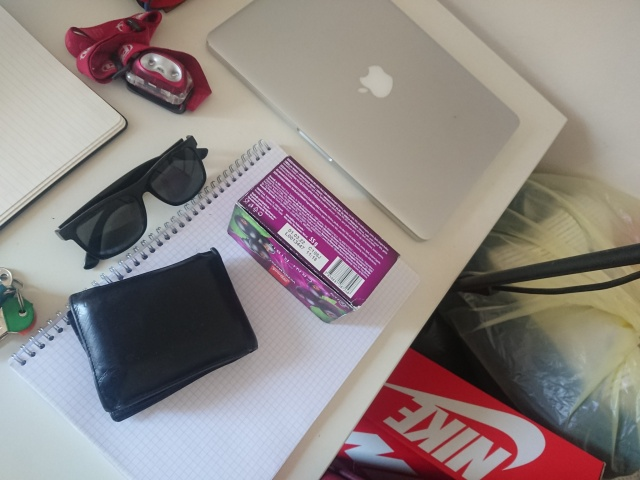Franck Black Currant Tea 60g: (225, 152, 402, 325)
